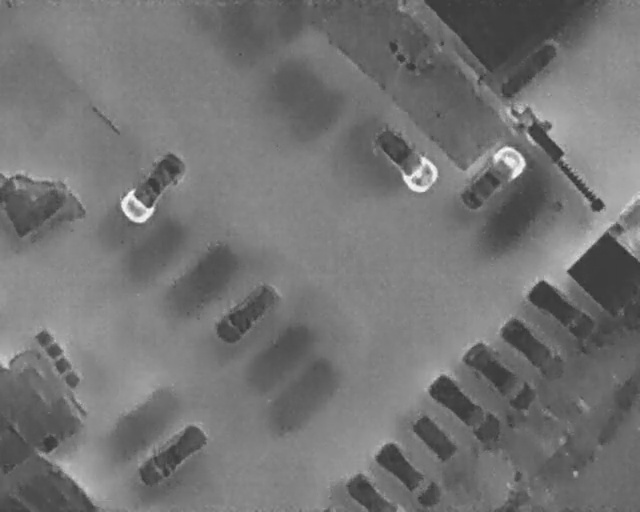Car: (421, 368, 510, 450), (459, 335, 543, 416), (114, 146, 194, 228), (364, 116, 444, 197), (130, 417, 214, 490), (208, 274, 287, 351), (369, 436, 448, 511), (453, 140, 530, 216), (494, 312, 571, 385), (523, 275, 601, 346), (342, 472, 404, 512)
